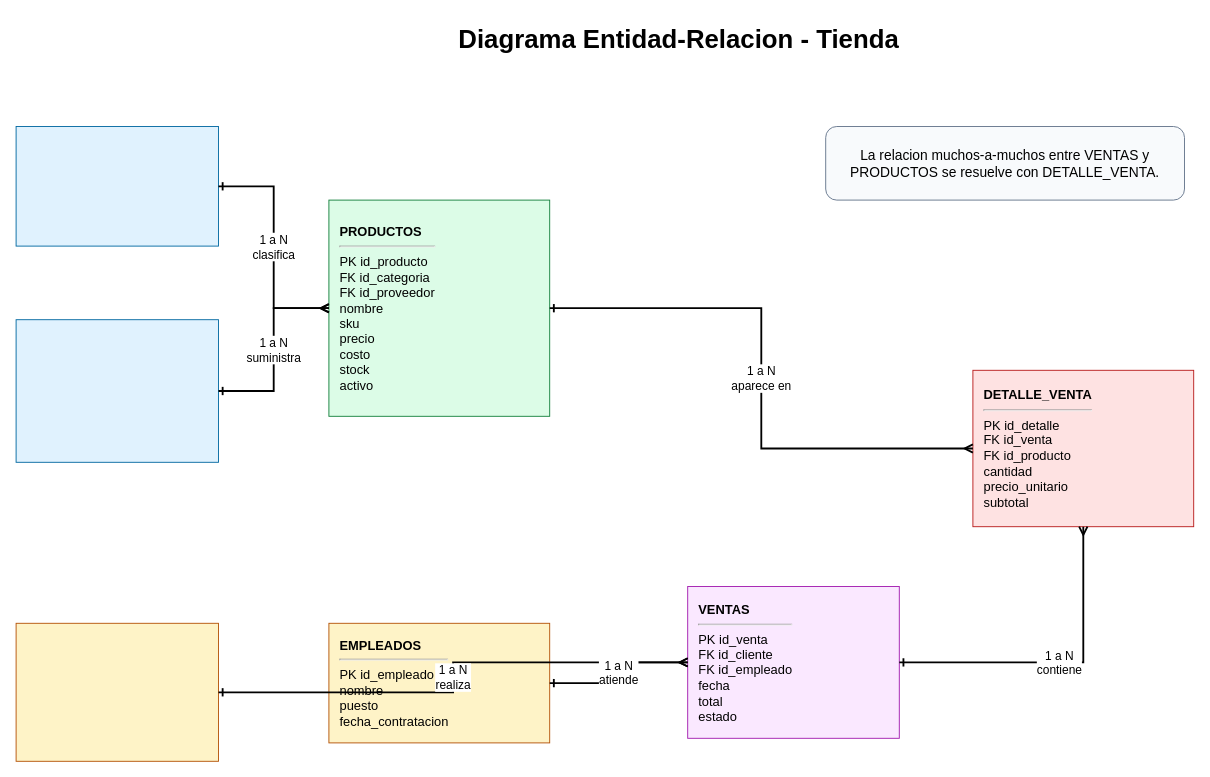
The diagram is 1210 pixels wide and 777 high, and some of its shapes have lost their labels. Here are the shapes that lost their labels. From the top down, the centre of each, then its label:
At pixel 116 186: "CATEGORIAS PK id_categoria nombre descripcion".
At pixel 116 390: "PROVEEDORES PK id_proveedor nombre telefono email ciudad".
At pixel 116 691: "CLIENTES PK id_cliente nombre nit telefono email".
